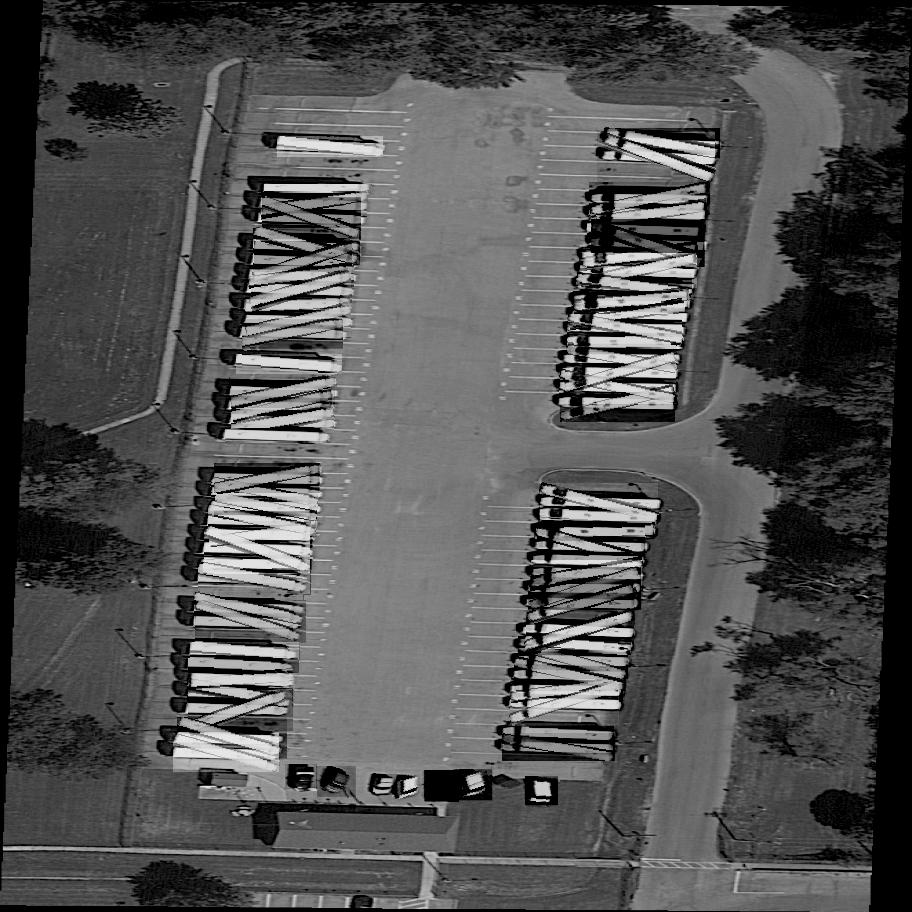large-vehicle: (597, 131, 715, 184), (592, 219, 705, 268), (204, 527, 310, 576), (510, 681, 620, 727), (195, 600, 306, 645), (531, 566, 642, 611), (178, 717, 289, 760), (564, 352, 677, 394), (526, 611, 637, 653), (540, 482, 659, 521), (537, 524, 647, 566), (188, 690, 293, 733), (527, 584, 637, 625), (559, 370, 678, 407), (518, 642, 629, 681), (262, 198, 361, 241), (173, 734, 281, 773), (253, 228, 360, 267), (580, 253, 698, 288), (253, 242, 355, 282), (560, 387, 676, 422), (589, 182, 710, 215), (195, 591, 305, 627), (514, 658, 627, 693), (249, 272, 353, 309), (605, 127, 721, 160), (567, 314, 684, 346), (198, 564, 312, 596), (245, 304, 352, 338), (207, 506, 317, 538), (211, 478, 318, 510), (232, 390, 334, 423), (566, 344, 678, 374), (589, 201, 708, 229), (230, 377, 337, 408), (530, 560, 644, 589), (188, 678, 294, 709), (570, 302, 686, 330), (241, 319, 344, 350), (215, 464, 321, 494), (503, 733, 616, 761), (579, 244, 700, 270), (214, 494, 317, 524), (577, 273, 693, 299), (511, 678, 624, 703), (231, 409, 335, 436), (260, 192, 368, 217), (208, 525, 313, 549), (518, 636, 631, 657), (277, 136, 383, 158), (249, 266, 354, 288), (236, 353, 342, 374), (573, 292, 689, 311), (190, 642, 300, 662), (538, 508, 659, 525), (245, 297, 351, 314), (189, 658, 298, 674), (503, 726, 613, 741), (588, 223, 703, 237), (191, 673, 296, 688), (534, 525, 654, 537), (533, 554, 645, 566), (225, 430, 328, 443), (568, 338, 682, 347), (202, 560, 311, 569), (264, 184, 371, 192)
small-vehicle: (389, 770, 431, 803), (318, 764, 356, 798), (457, 770, 495, 802), (424, 771, 459, 801), (525, 777, 559, 806), (286, 764, 317, 790), (372, 774, 398, 797)
